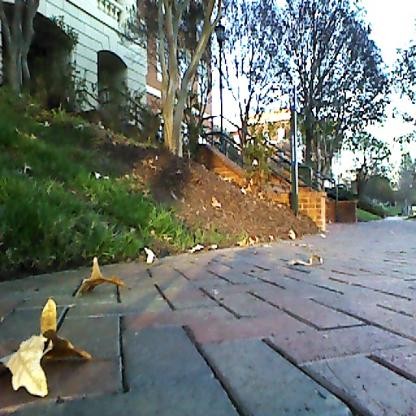Sidewalk: (0, 218, 416, 416)
